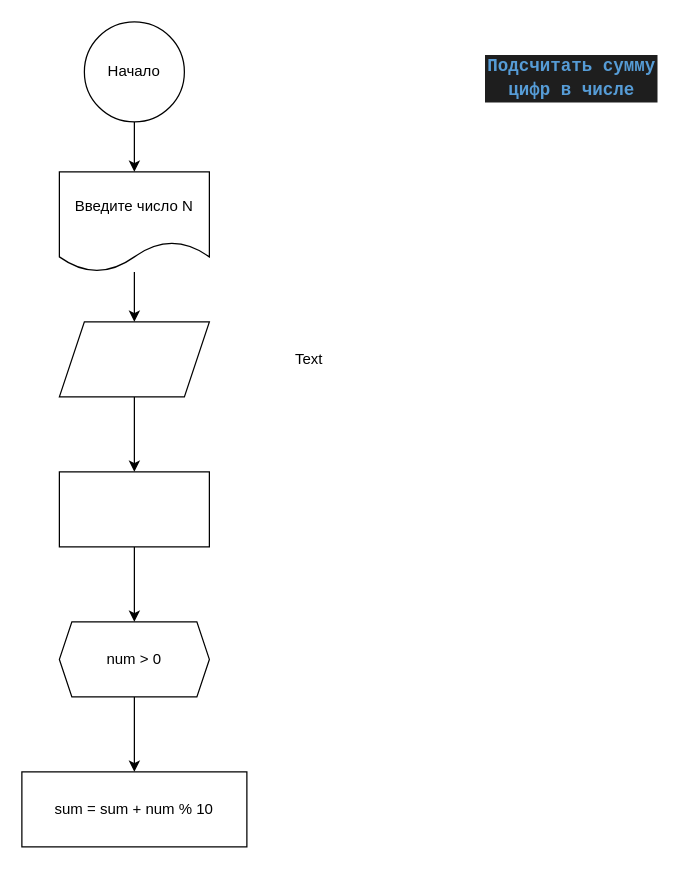
The diagram is 681 pixels wide and 869 high, and some of its shapes have lost their labels. Each missing label, with the box of its shape:
int sum = 0: (58, 471, 209, 547)
num: (58, 321, 209, 397)
